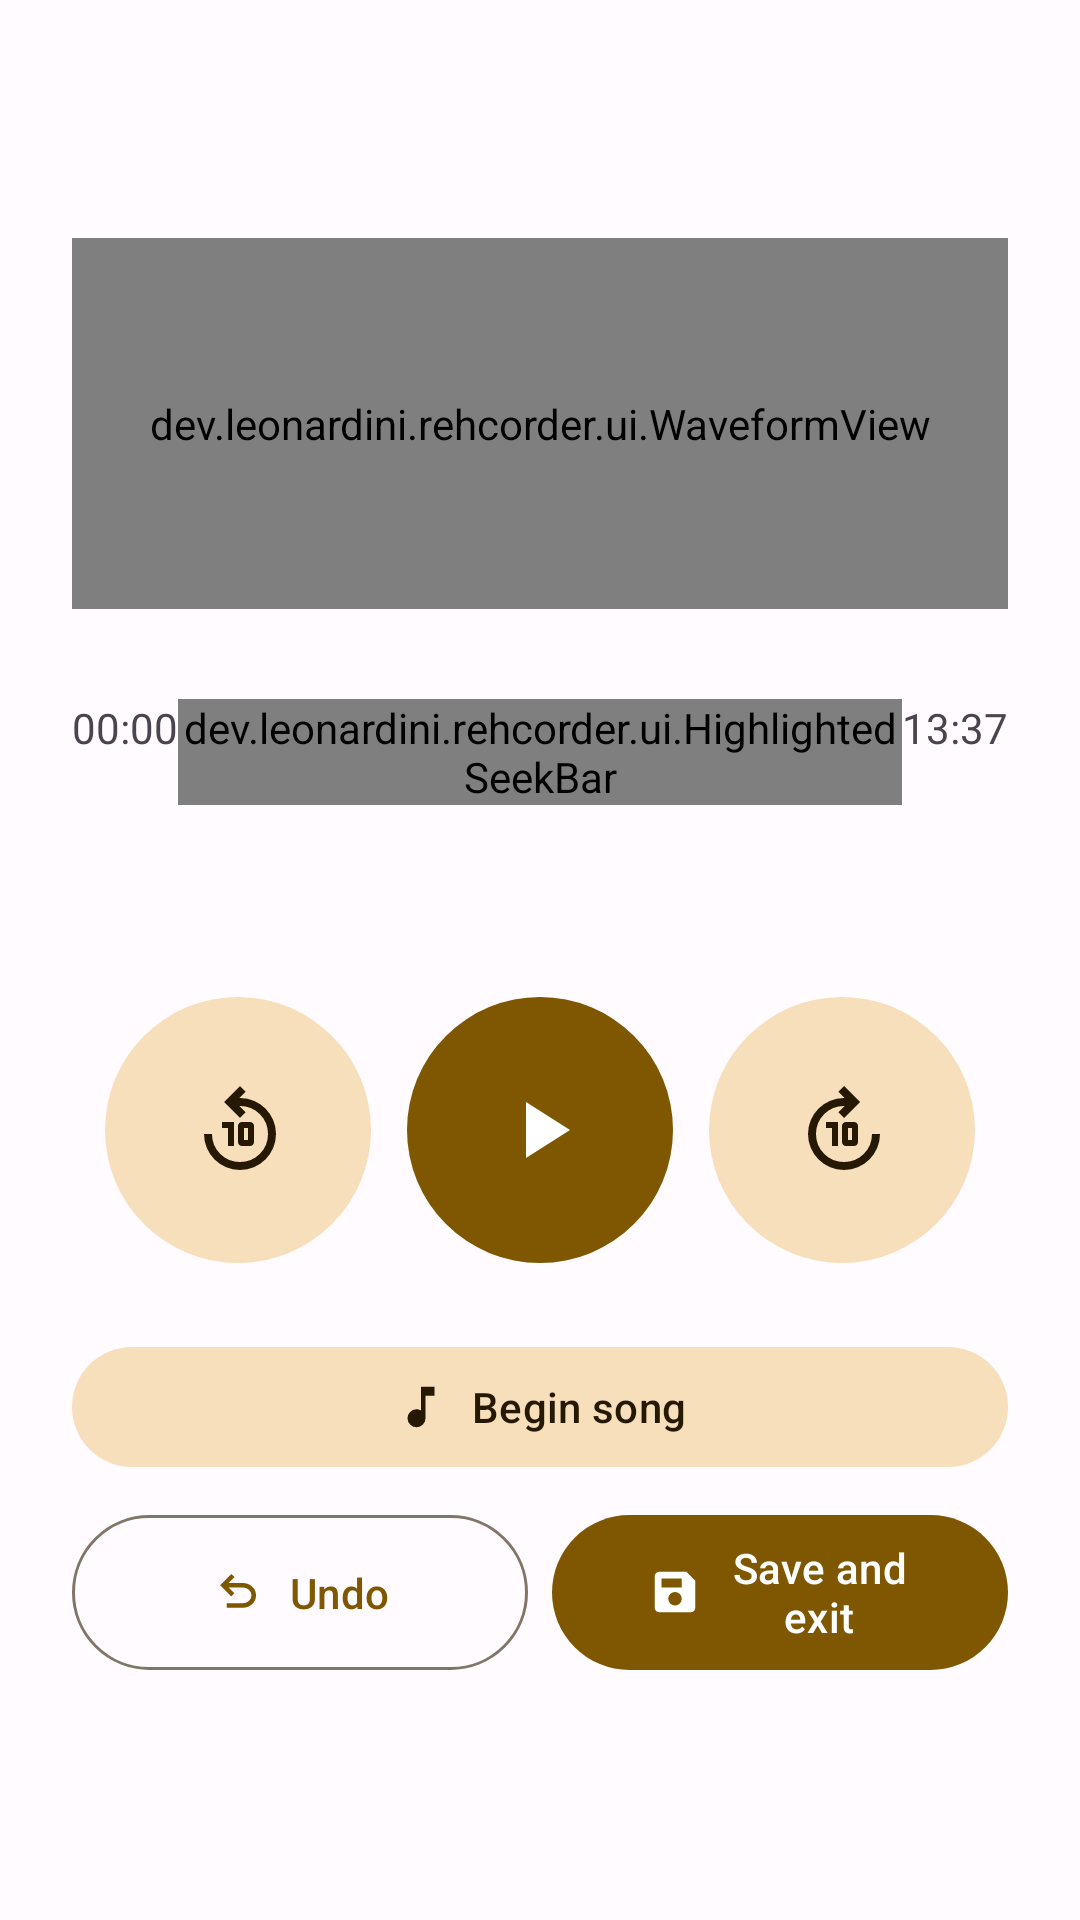

Icon bounding boxes for this 1080w x 1920h phone screenshot, format (x1, y1, x2, y2):
forward: (709, 997, 975, 1263)
play: (407, 997, 673, 1263)
replay: (105, 997, 371, 1263)
